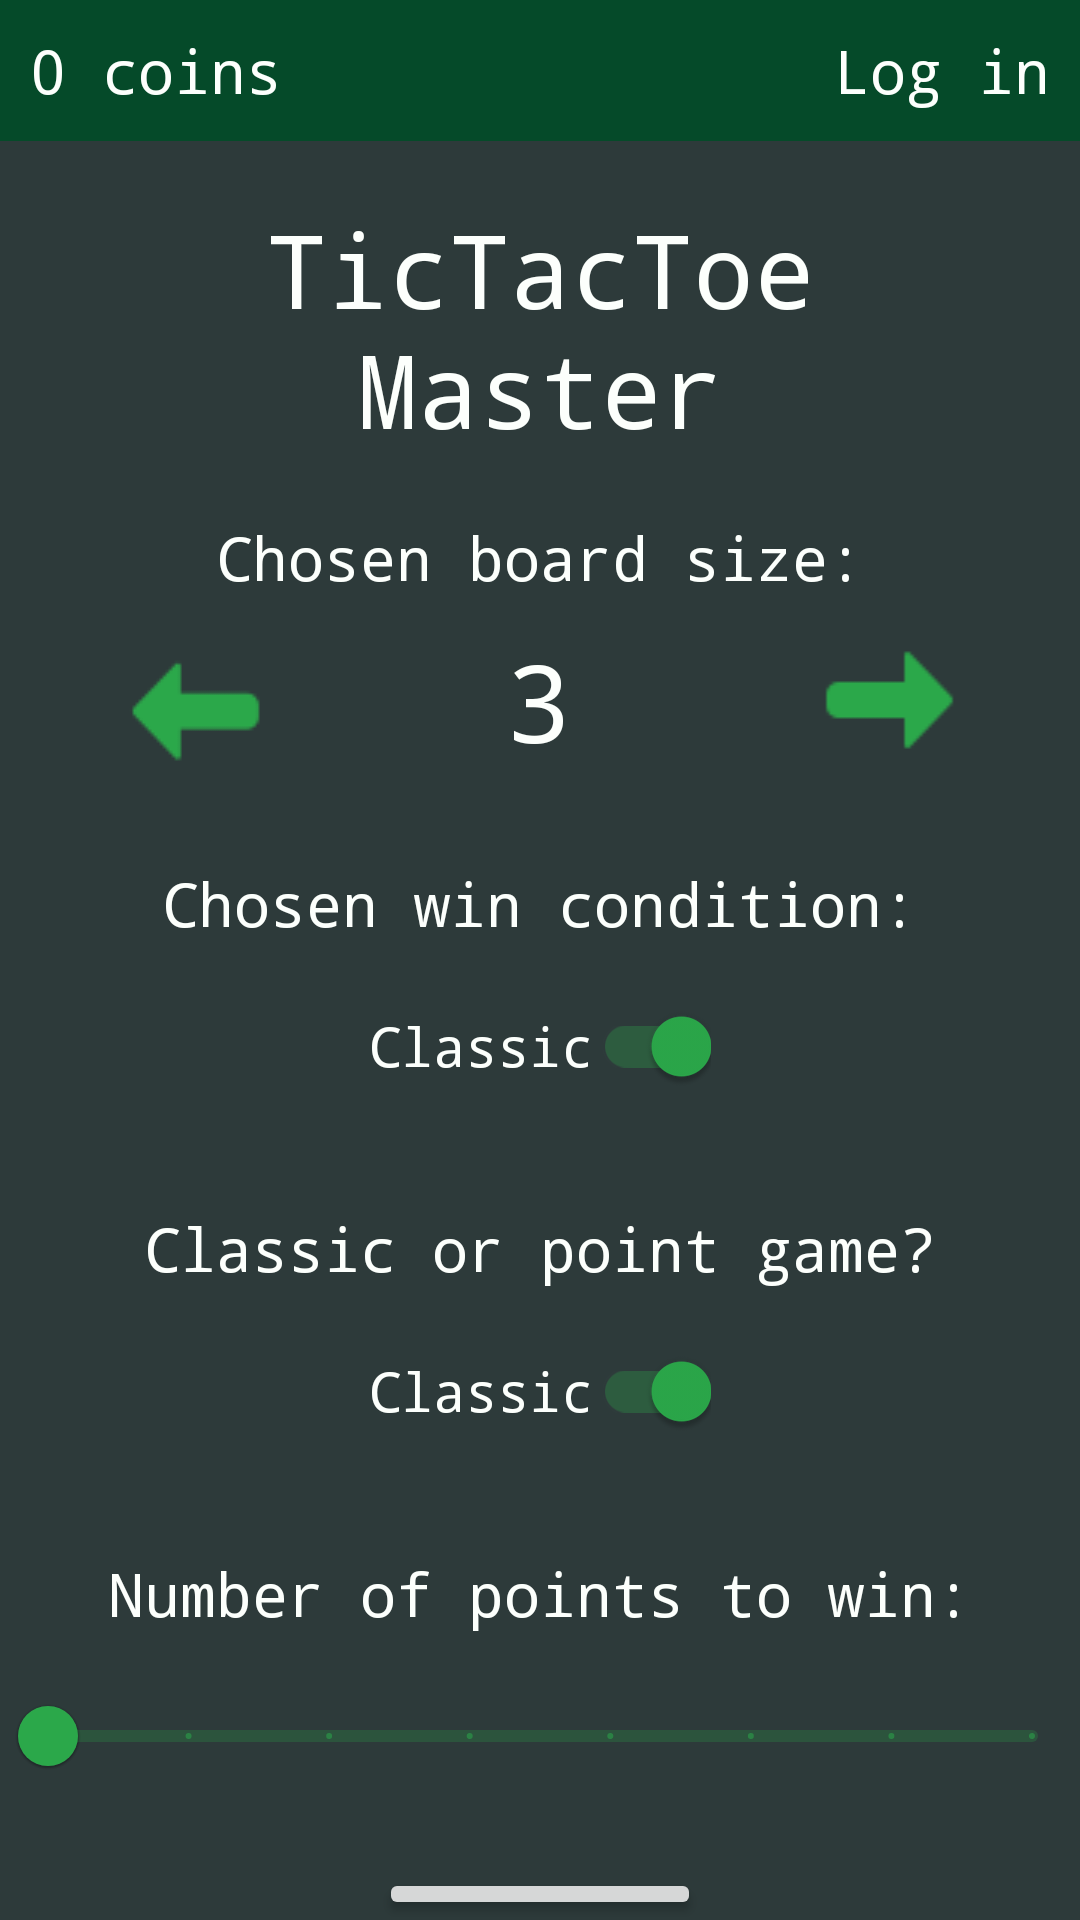

Icons on this 1080px×1920px Android screen, each with its box as (x1, y1, x2, y2):
left arrow: (132, 663, 260, 760)
right arrow: (826, 651, 953, 749)
